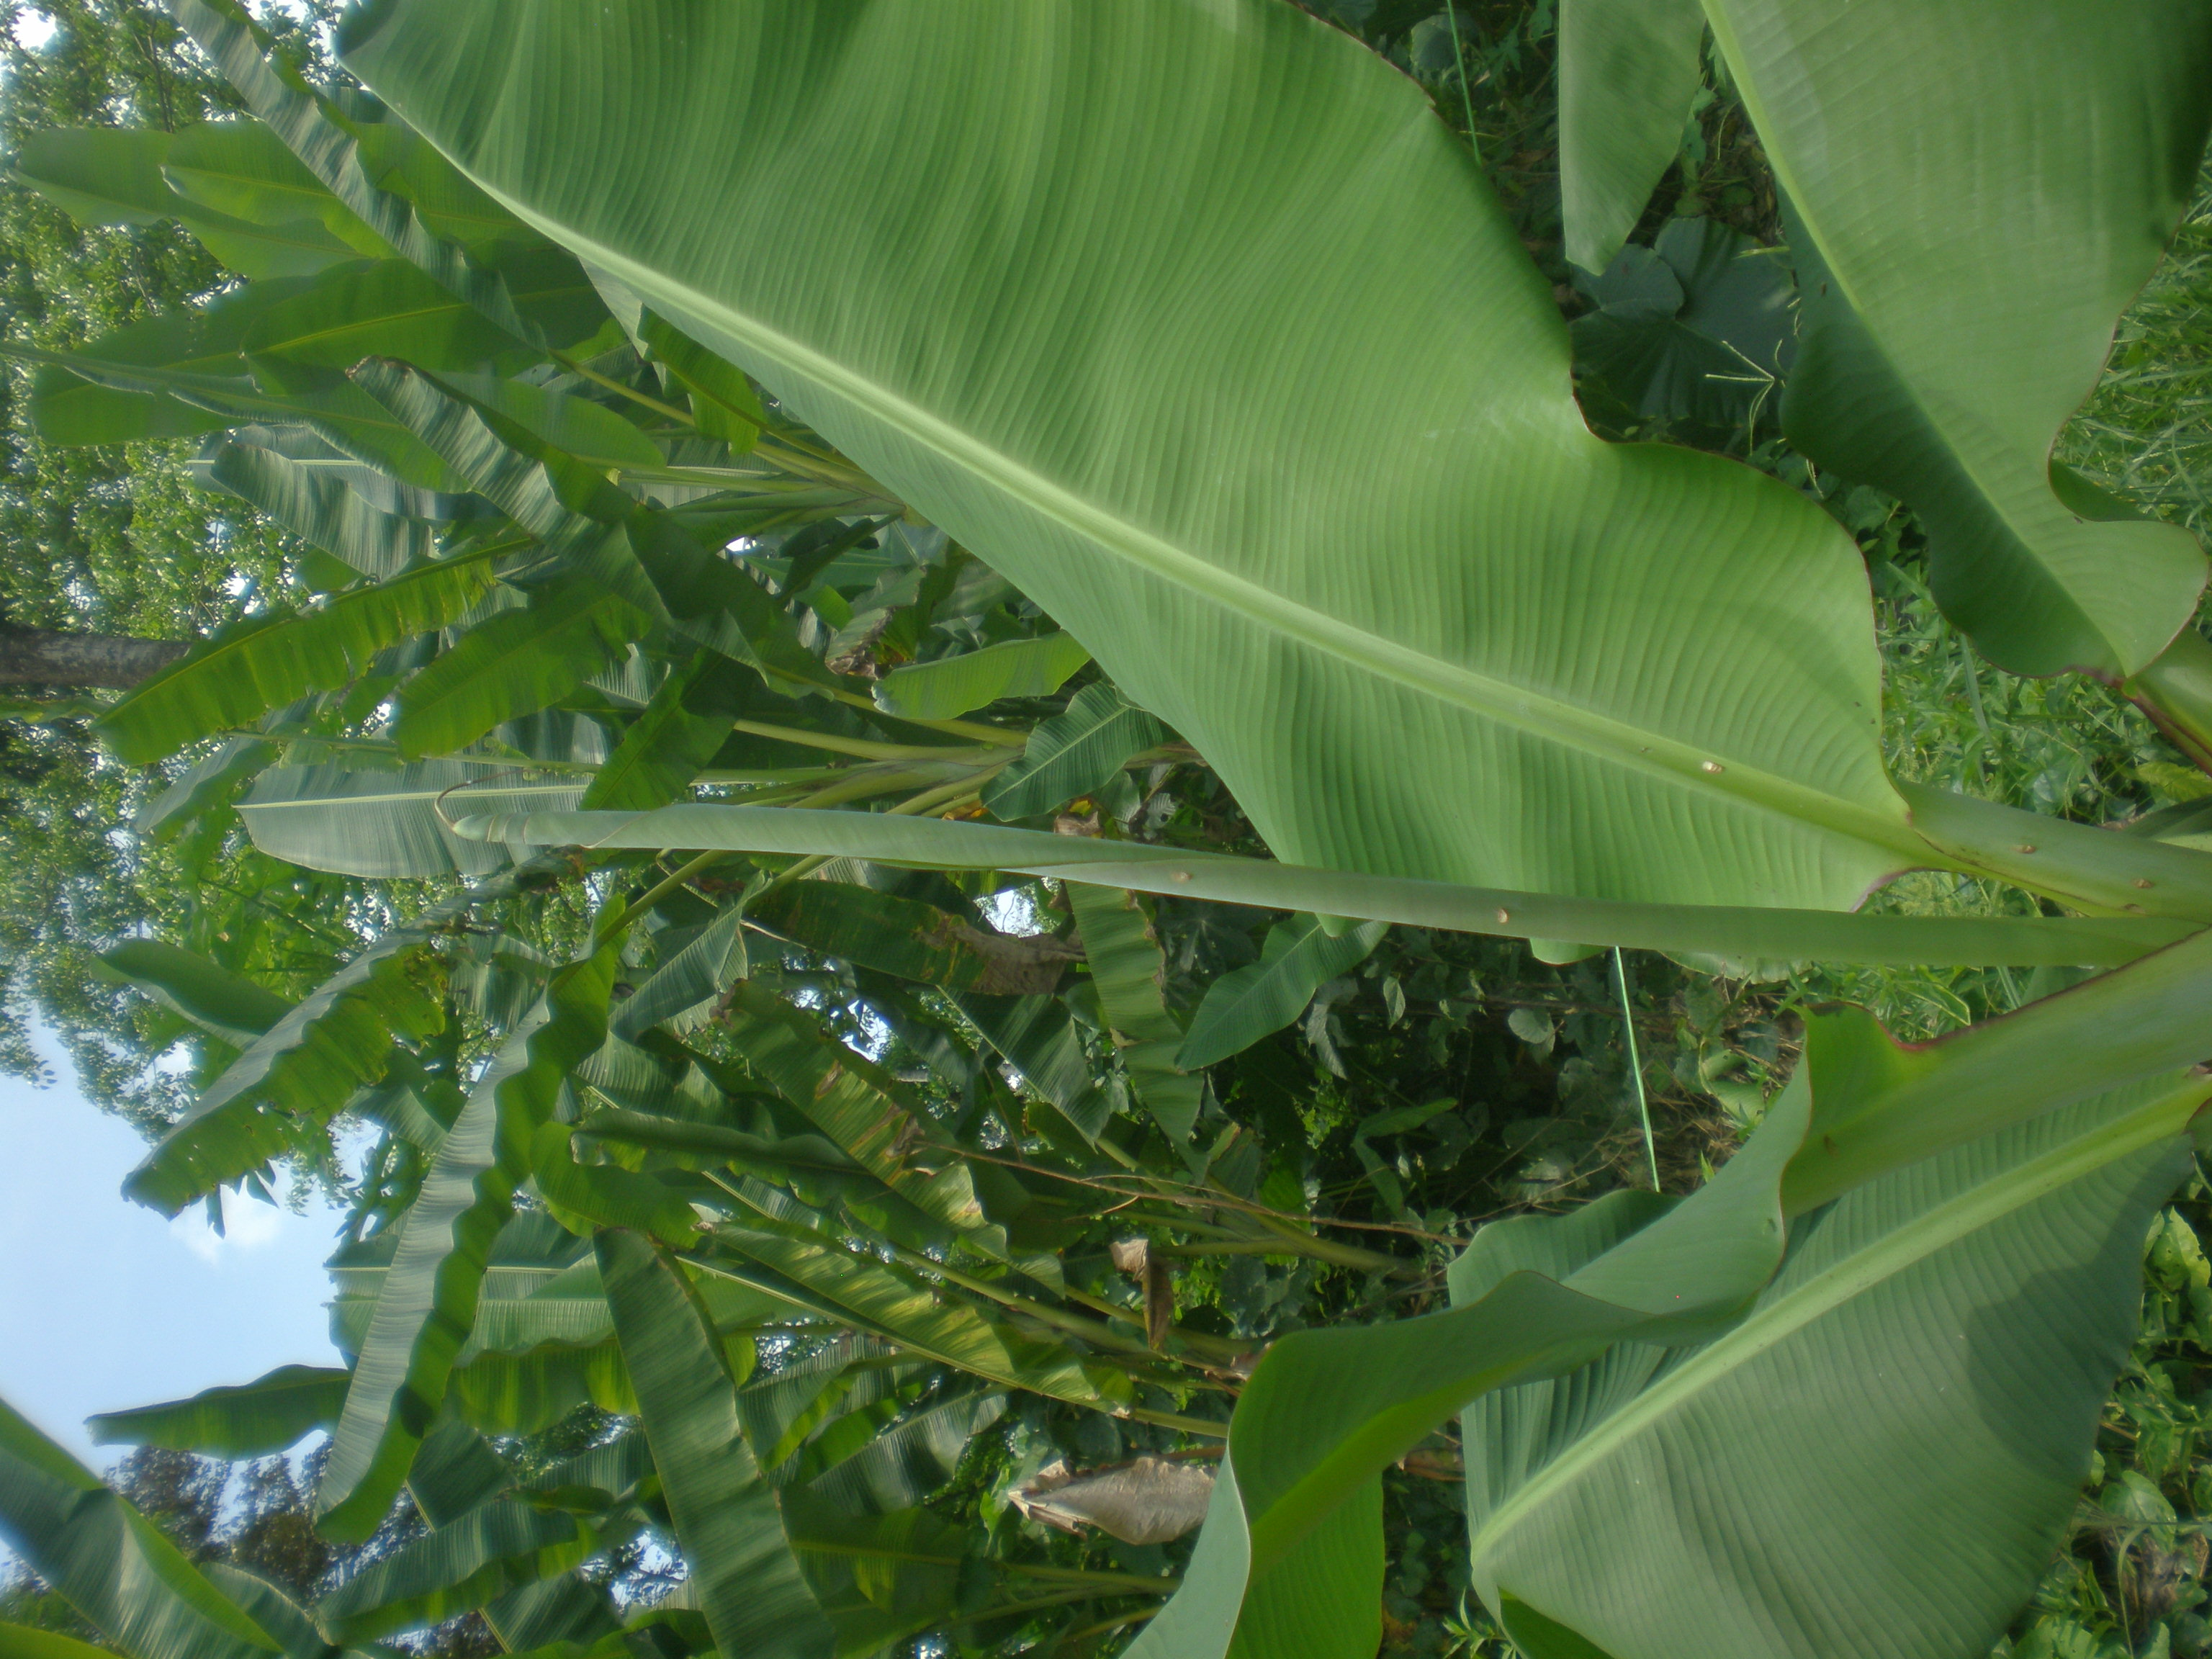candleleafs: (437, 774, 2087, 993)
